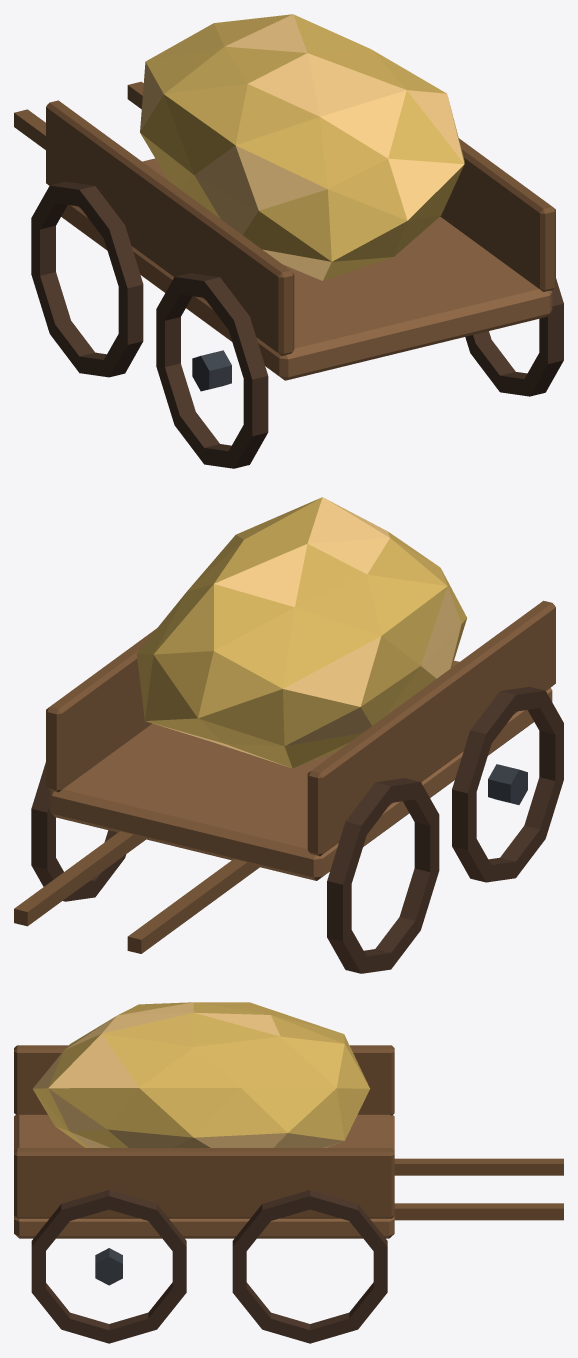
The model's file is HayCart.obj.
The picture shows the model from 3 angles, top to bottom: view 1: azimuth 30°, elevation 25°; view 2: azimuth 150°, elevation 25°; view 3: azimuth 270°, elevation 25°; orthographic projection. The views are drawn at different scales.
Size of the model in its own units: 2.8 by 2.81 by 5.2.
